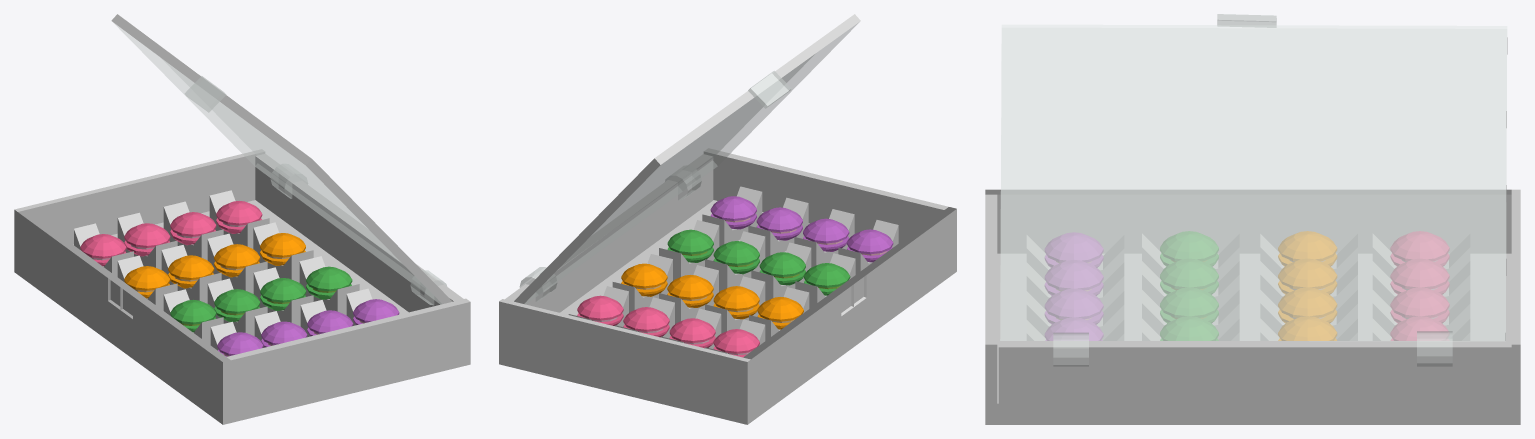
The model's file is core-box.glb.
The picture shows the model from 3 angles, left to right: view 1: azimuth 30°, elevation 25°; view 2: azimuth 150°, elevation 25°; view 3: azimuth 270°, elevation 25°; orthographic projection. The views are drawn at different scales.
Parts seen in each view (by area): view 1: group1452078005, group1445188781, group1303184842, group249155656, group332684225, group48769953, group1930384384, group1108707426, group1886995437, group2118879379, group1777334233, group19879820 (+13 smaller); view 2: group332684225, group1303184842, group1445188781, group249155656, group48769953, group1452078005, group2118879379, group1886995437, group262457988, group1247351019, group1741515449, group1108707426 (+13 smaller); view 3: group1303184842, group48769953, group1445188781, group249155656, group1741515449, group2118879379, group1777334233, group1930384384, group1842426310, group19879820, group253280783, group262457988 (+13 smaller).
Part boxes in pixels (x1,y1,x2,y2): group1452078005: (227,298,470,406); group1445188781: (17,210,230,407); group1303184842: (111,14,452,304); group249155656: (14,200,470,424); group332684225: (14,149,264,257); group48769953: (255,154,463,312); group1930384384: (207,233,267,293); group1108707426: (253,222,313,282); group1886995437: (299,256,359,314); group2118879379: (253,267,313,326); group1777334233: (161,245,221,303); group19879820: (163,201,223,260); group332684225: (499,299,750,407); group1303184842: (514,14,860,304); group1445188781: (743,207,956,405); group249155656: (499,200,956,424); group48769953: (505,154,713,312); group1452078005: (704,148,948,243); group2118879379: (705,231,765,291); group1886995437: (659,220,719,280); group262457988: (748,197,808,257); group1247351019: (702,186,762,246); group1741515449: (751,242,811,301); group1108707426: (612,254,672,312); group1303184842: (1000,25,1507,341); group48769953: (998,341,1513,406); group1445188781: (985,189,1511,253); group249155656: (985,253,1520,424); group1741515449: (1142,259,1239,310); group2118879379: (1142,287,1239,339); group1777334233: (1260,259,1357,310); group1930384384: (1260,287,1357,338); group1842426310: (1027,260,1123,311); group19879820: (1373,287,1469,335); group253280783: (1373,259,1469,309); group262457988: (1027,289,1123,339).
Size of the model in its own units: 1.27 by 1.17 by 1.81.
